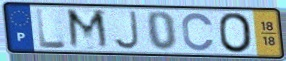0: (145, 10, 180, 52)
C: (180, 12, 216, 53)
J: (111, 10, 141, 51)
L: (34, 7, 69, 50)
M: (65, 8, 112, 52)
O: (216, 11, 255, 55)
